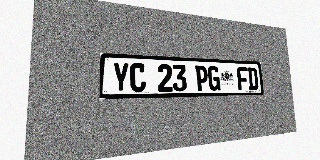2: (158, 64, 173, 92)
3: (172, 64, 187, 91)
C: (130, 63, 146, 92)
D: (247, 67, 258, 90)
F: (237, 67, 248, 90)
G: (207, 66, 220, 91)
P: (195, 65, 208, 91)
Y: (112, 62, 129, 92)
